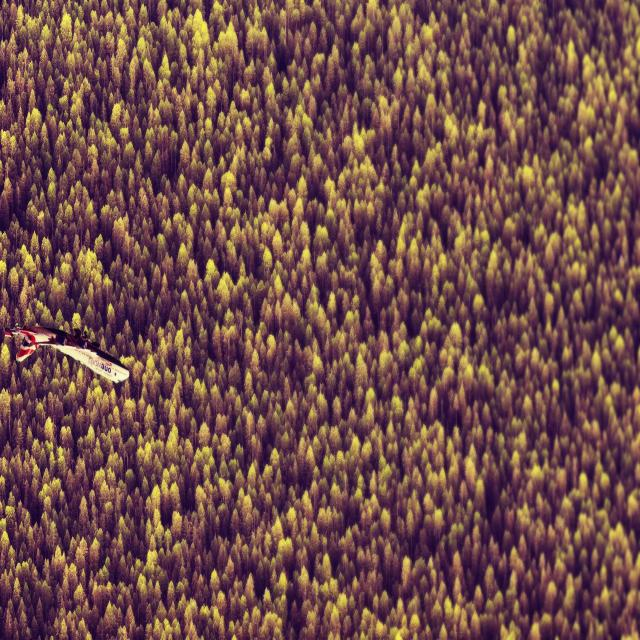airplane: (4, 322, 130, 384)
